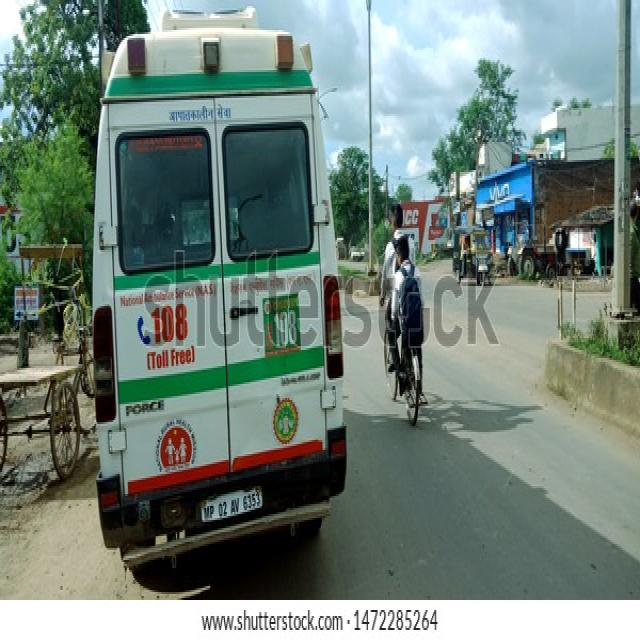ambulance: (94, 7, 348, 574)
